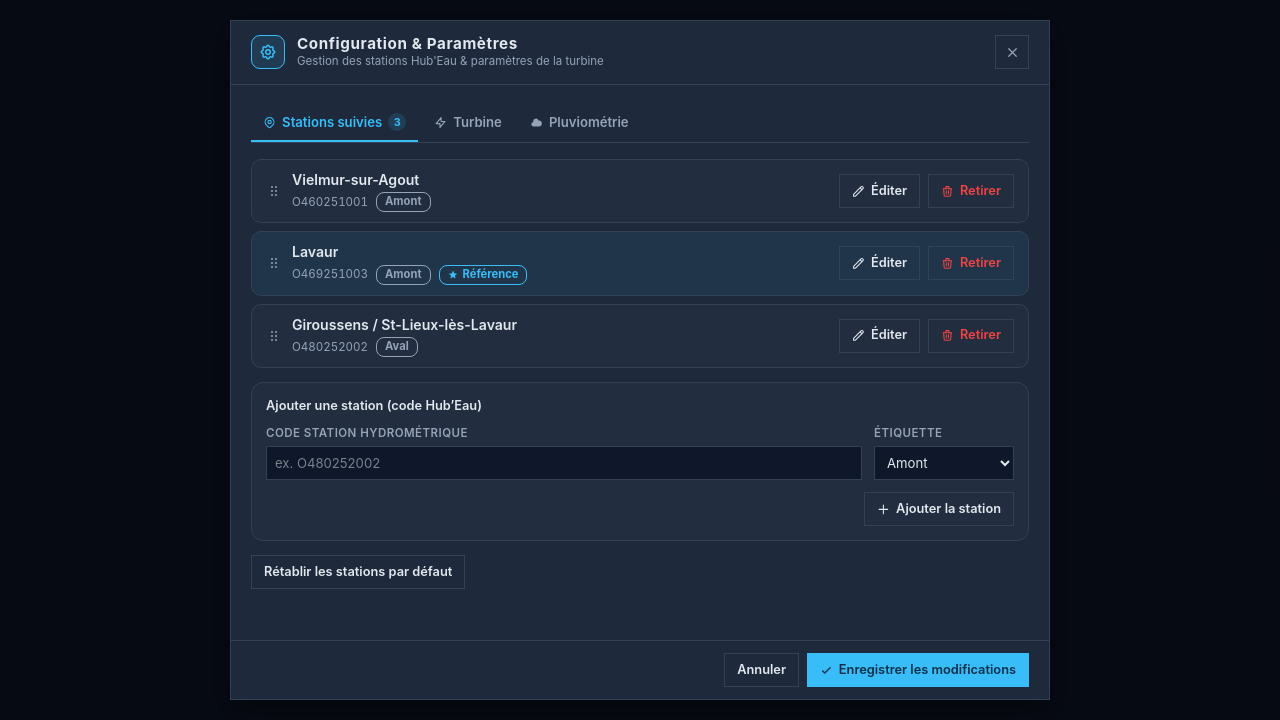
ConfigModal › onglet Stations › ajoute une station après vérification Hub’Eau
The image size is (1280, 720).
Step 1. Type "o480252009" into the field labelled "Code station hydrométrique" → (564, 463), box [275, 447, 853, 479]
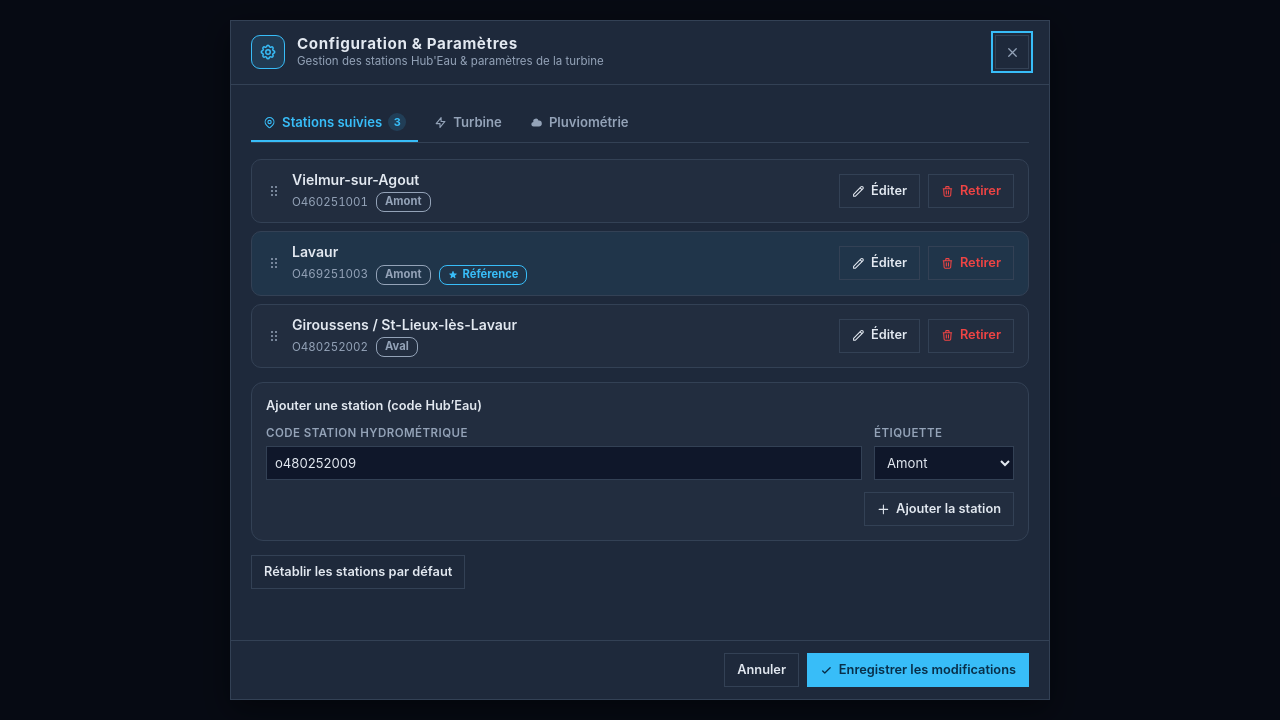
Step 2. Click the button "Ajouter la station" → (939, 509), box [864, 492, 1014, 526]
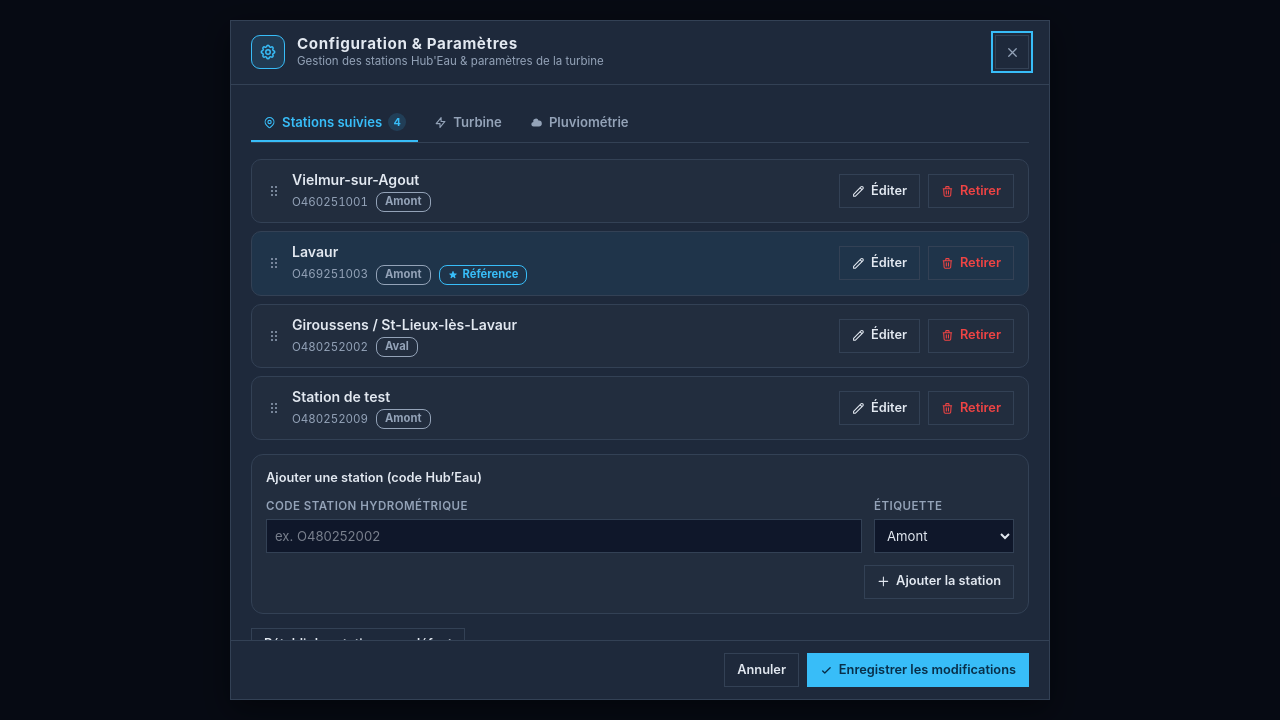
Result: the text "O480252009" is shown at [292, 411, 368, 428]
